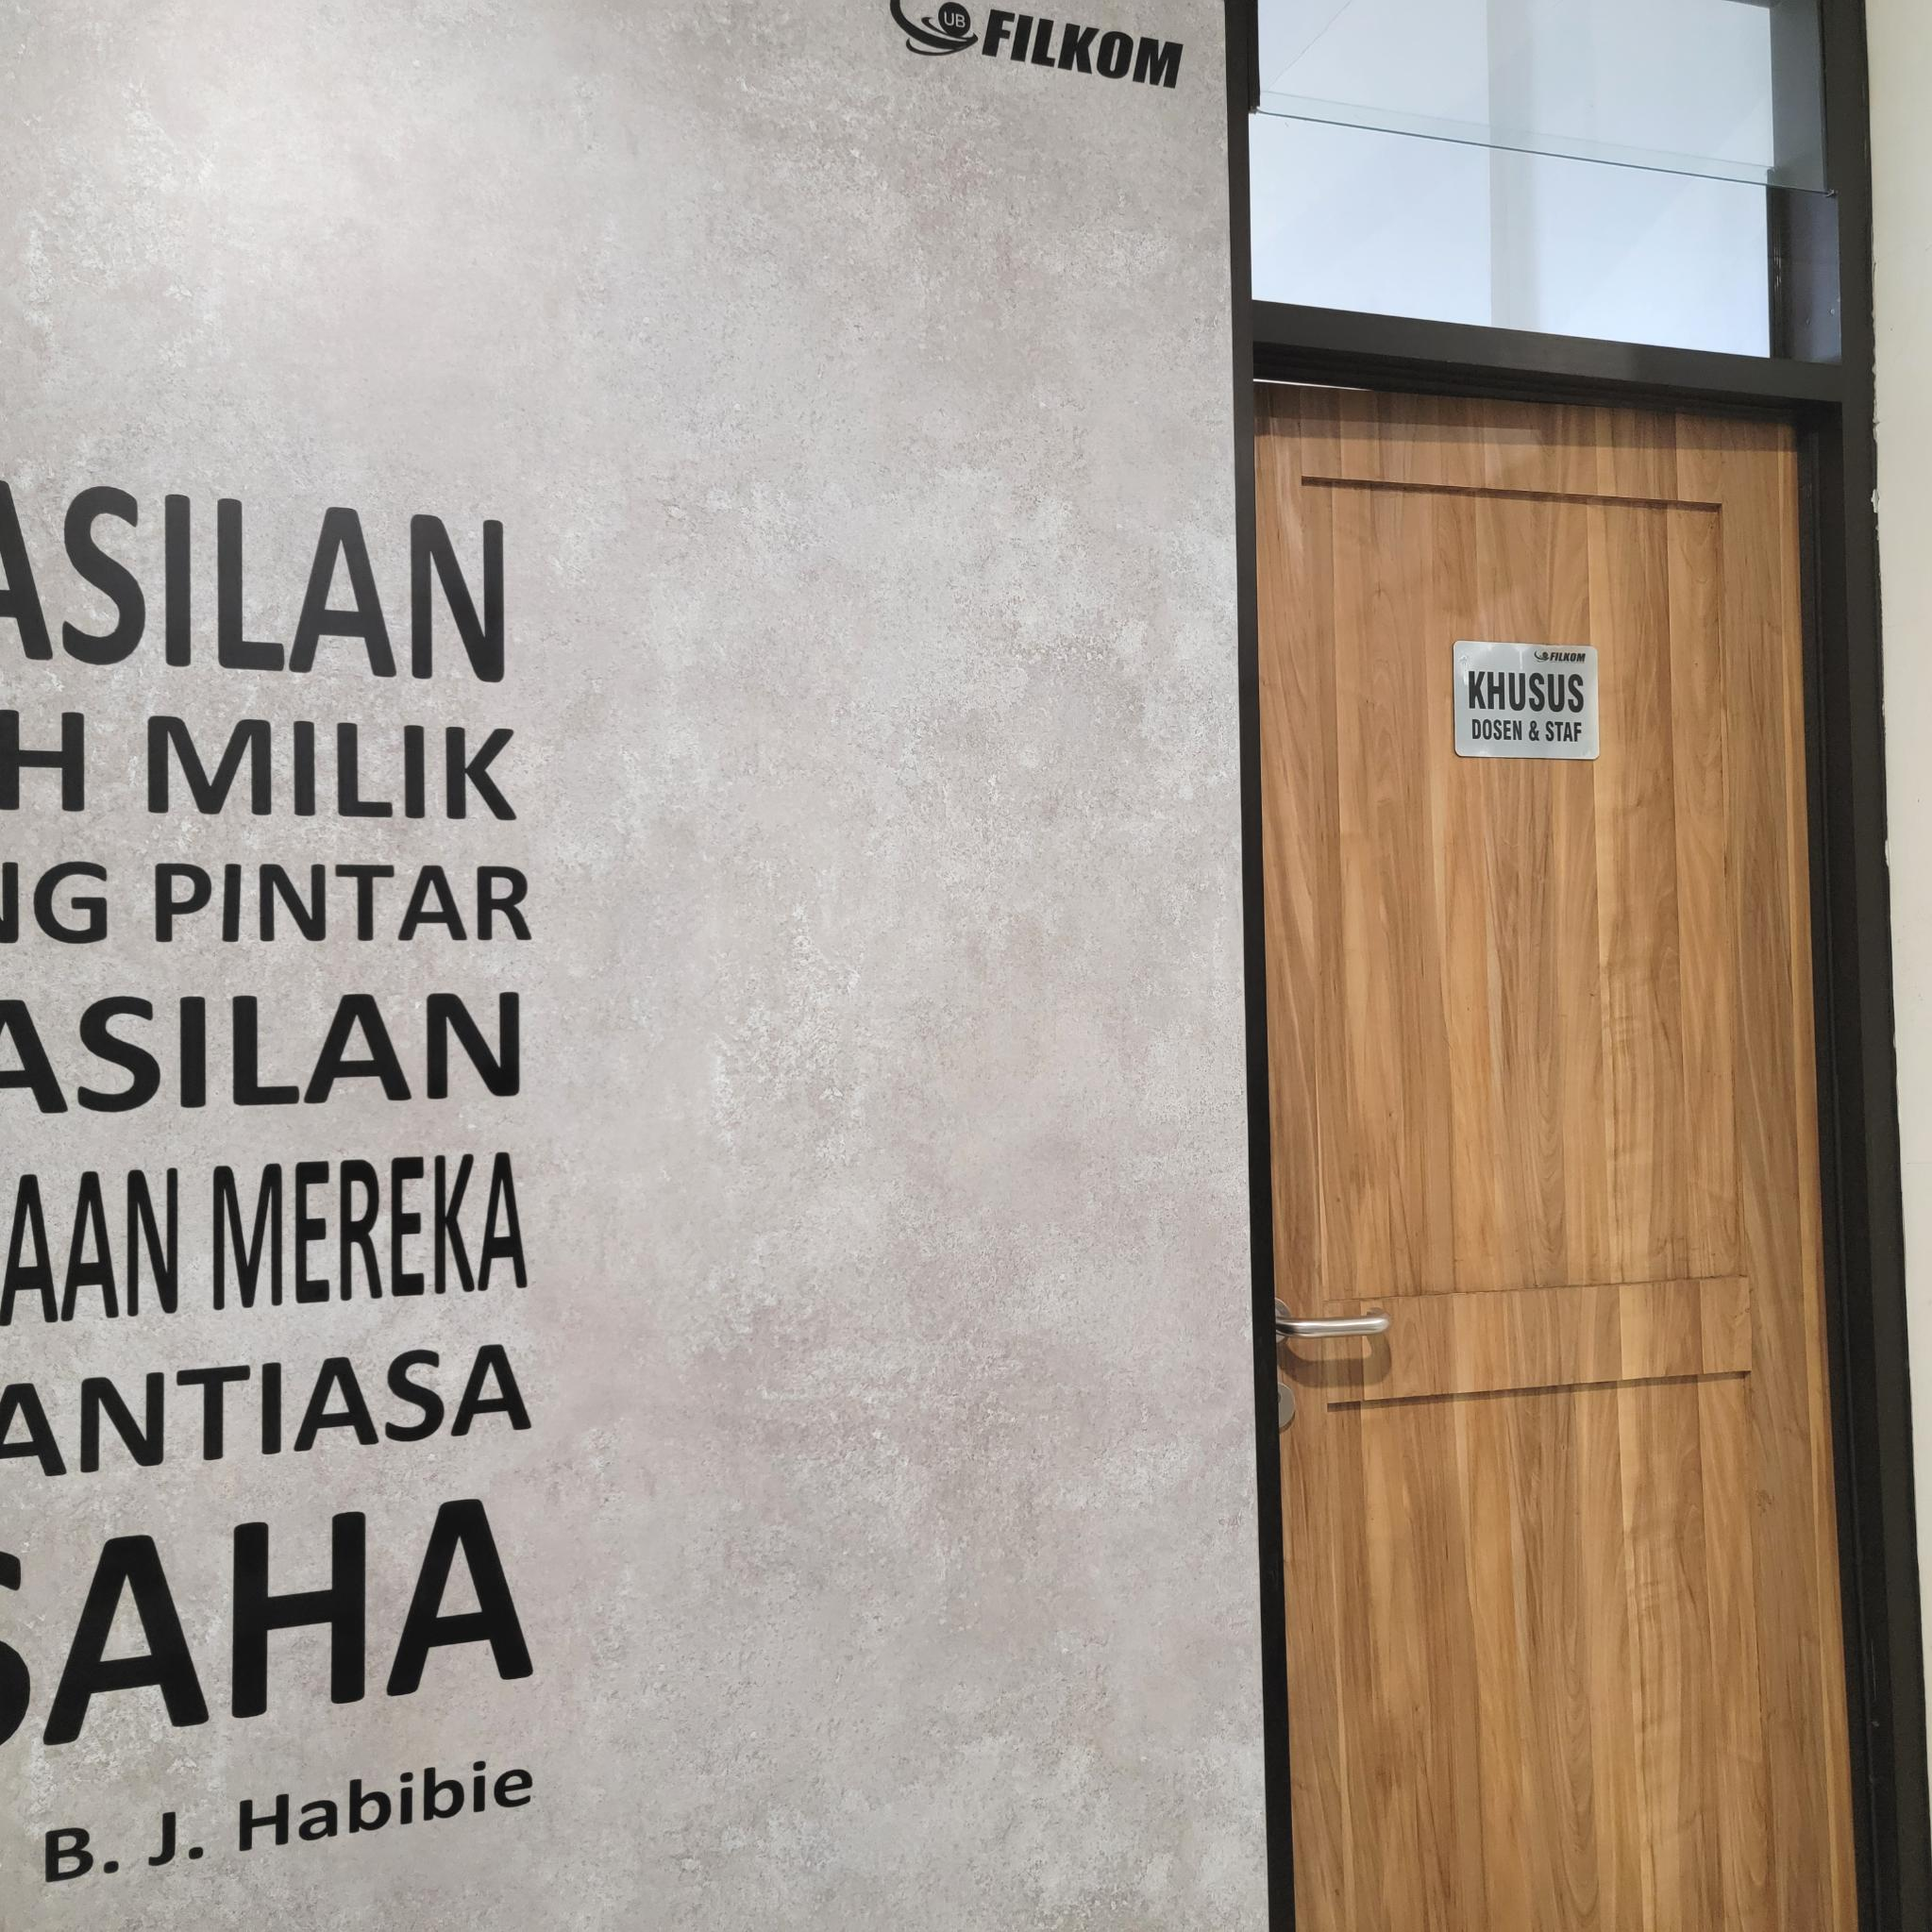plate: (1453, 639, 1601, 761)
